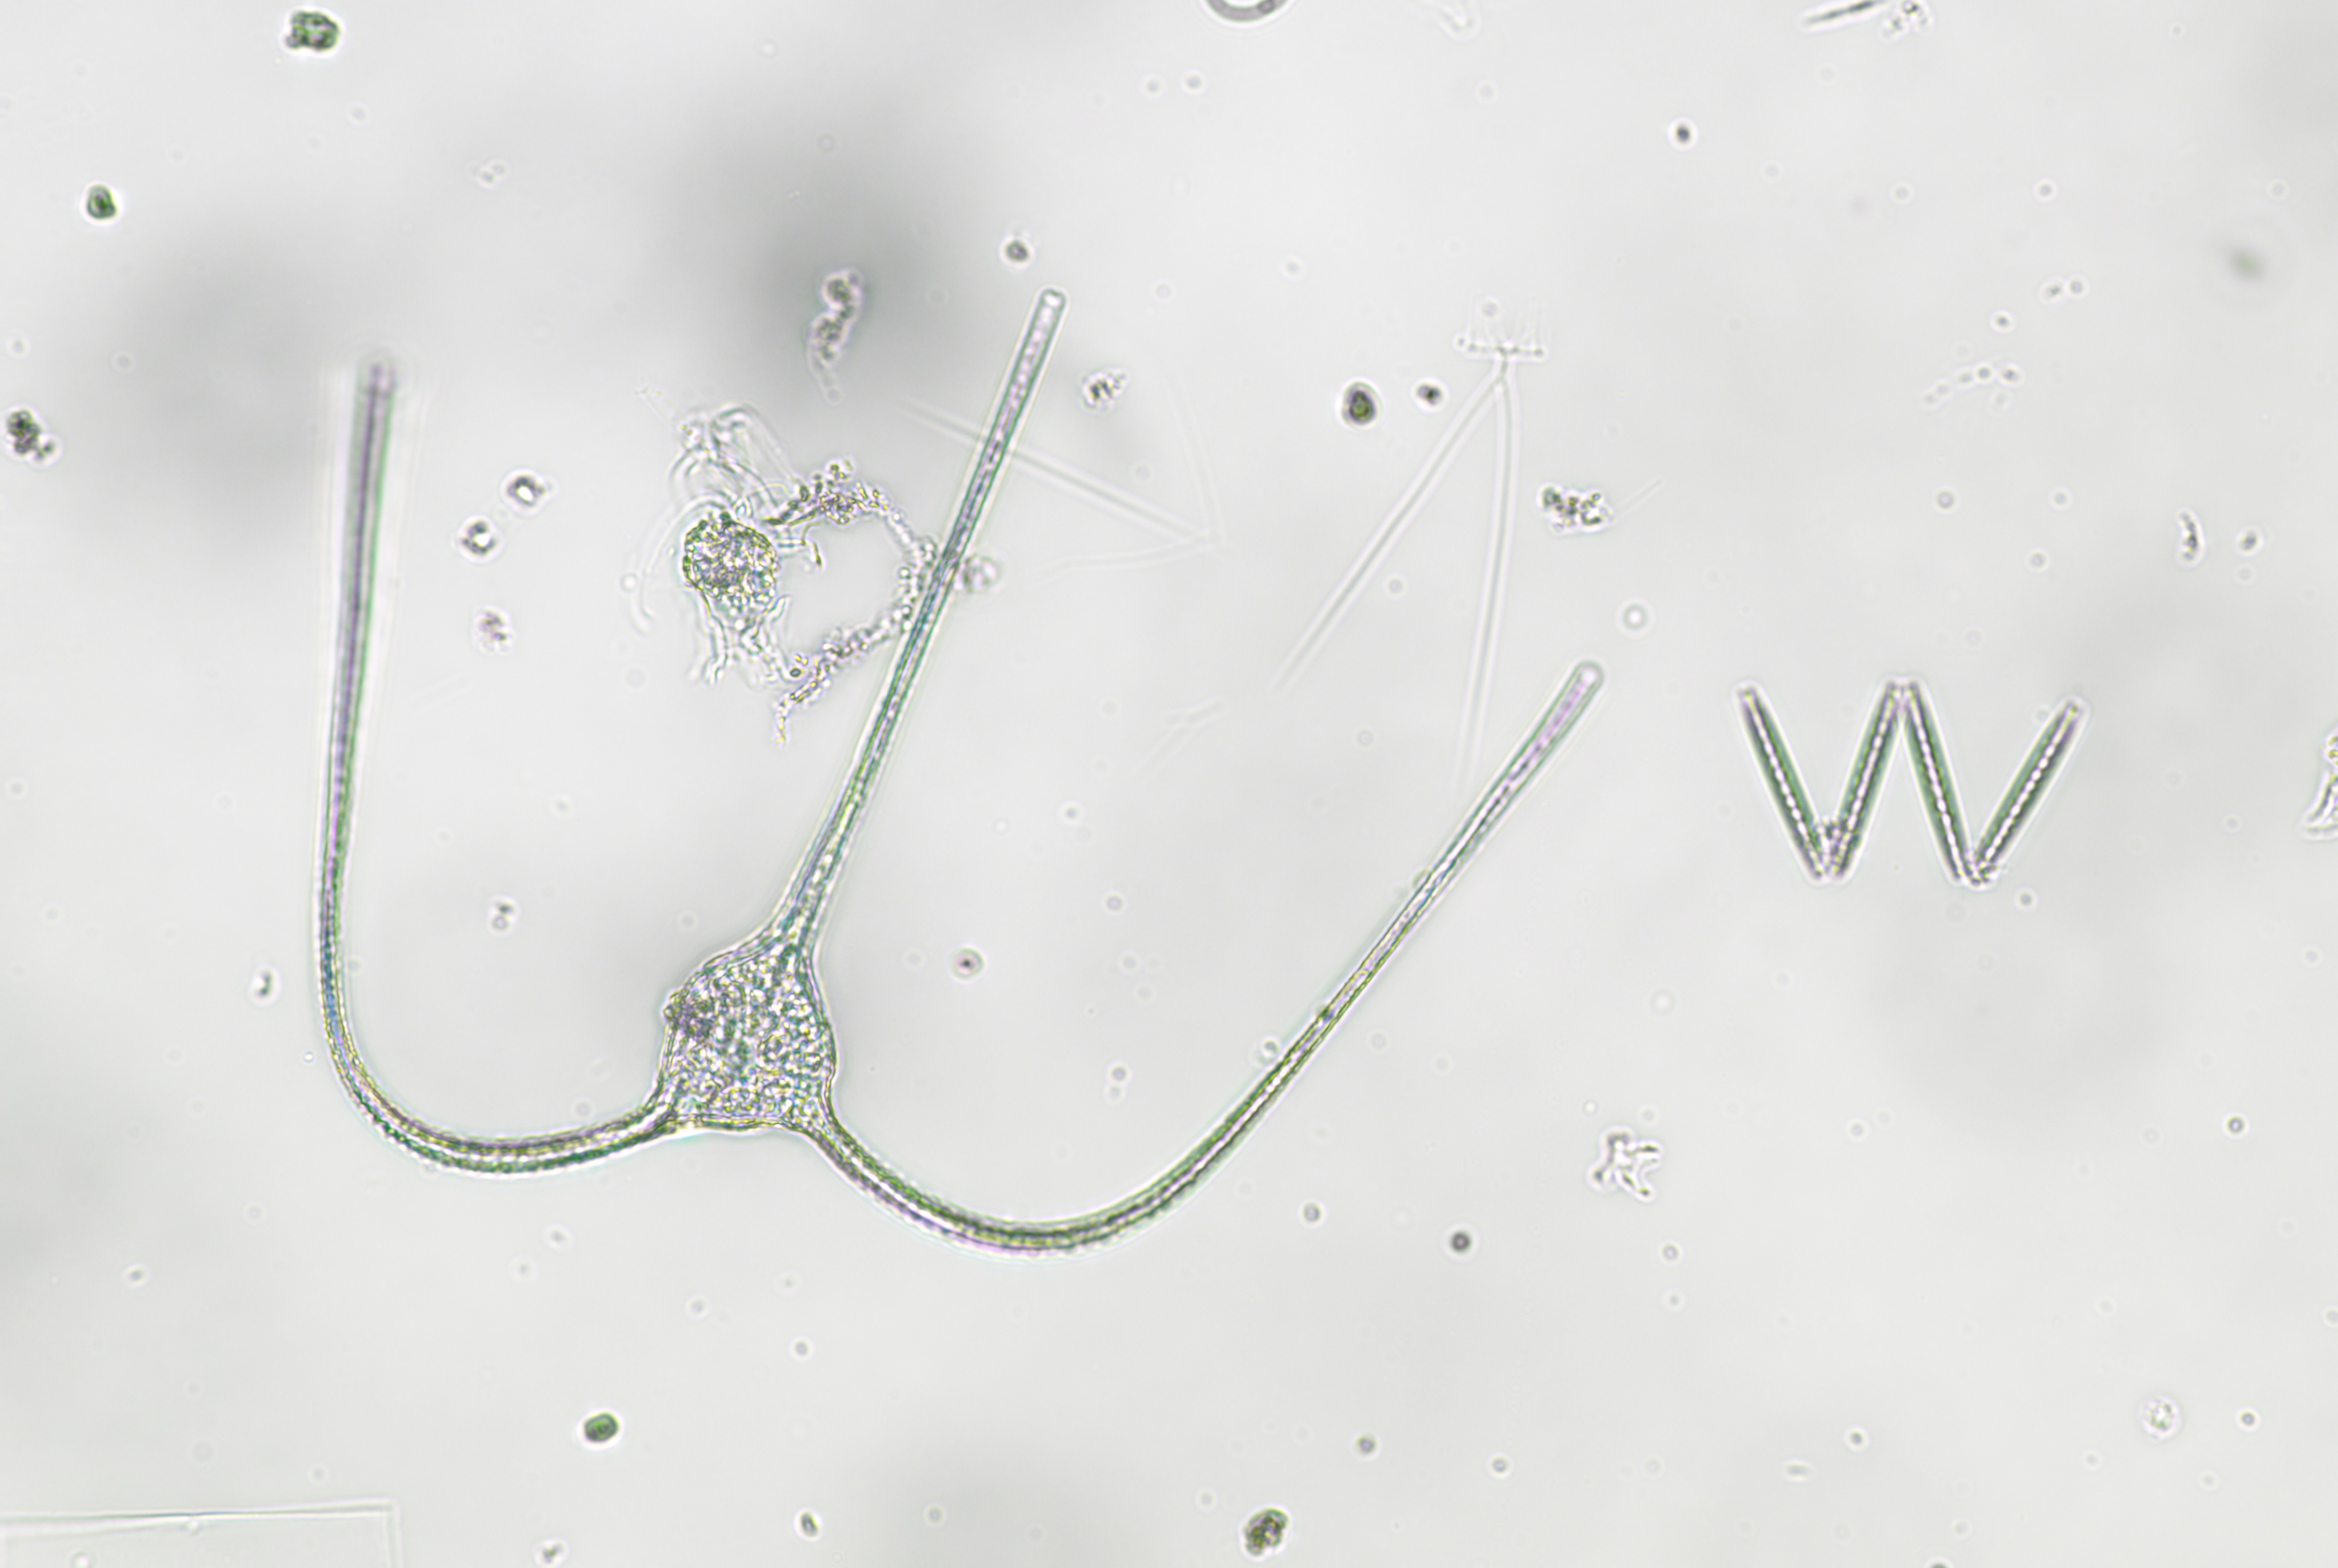ceratium trichoceros: (273, 217, 1608, 1263)
thalassionema nitzschioides: (1727, 665, 2111, 891)
